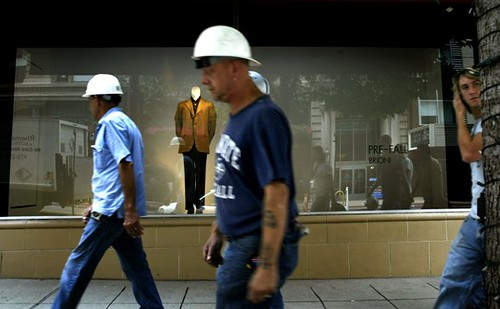person hardhat: (191, 25, 261, 102), (82, 74, 124, 120)
